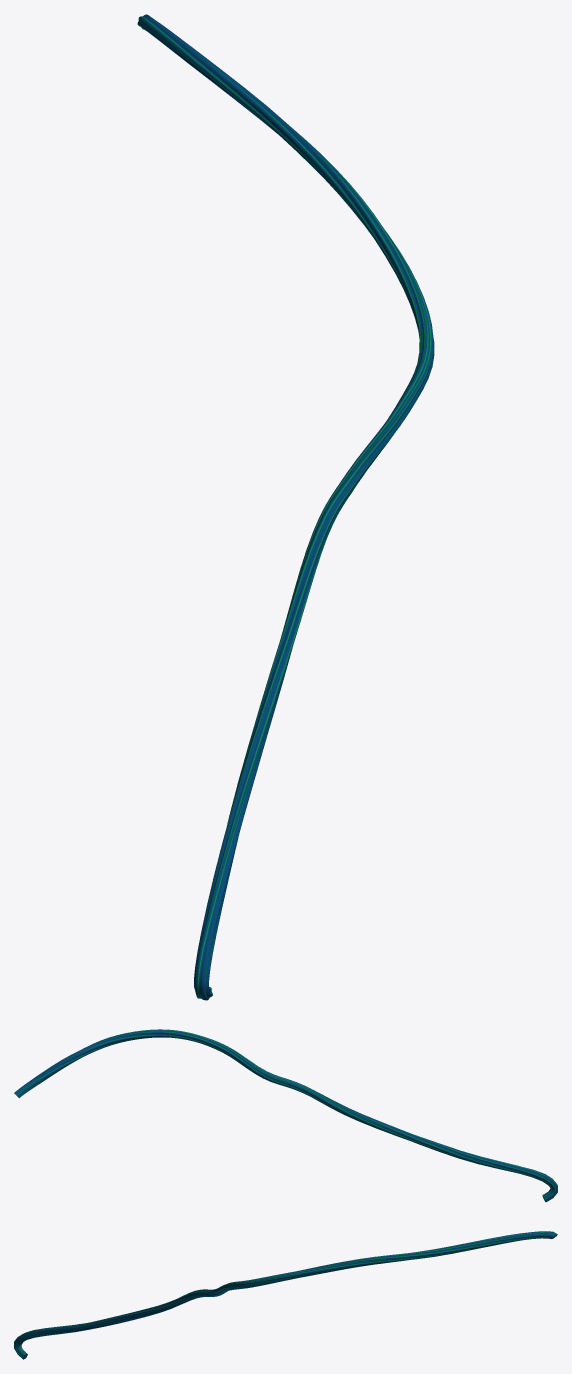
File: cables 2.FBX
The picture shows the model from 3 angles, top to bottom: view 1: azimuth 30°, elevation 25°; view 2: azimuth 150°, elevation 25°; view 3: azimuth 270°, elevation 25°; orthographic projection. The views are drawn at different scales.
Visible parts, largest first — view 1: Loft002; view 2: Loft002; view 3: Loft002.
Part boxes in pixels (bbox=[...]): Loft002: bbox=[137, 14, 434, 1000]; Loft002: bbox=[14, 1029, 557, 1202]; Loft002: bbox=[14, 1231, 557, 1359].
Size of the model in its own units: 655 by 592 by 1204.
